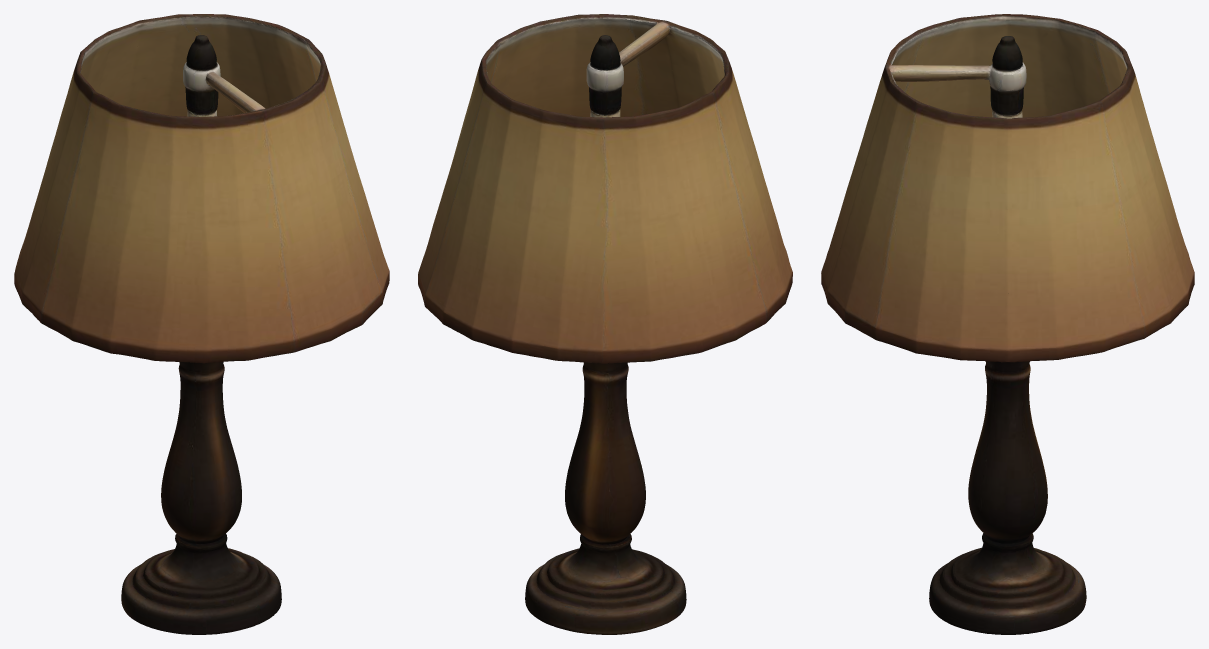
The model's file is desklamp.fbx.
3 renders of one model, left to right at view 1: azimuth 30°, elevation 25°; view 2: azimuth 150°, elevation 25°; view 3: azimuth 270°, elevation 25°, orthographic.
Visible parts, largest first — view 1: mesh; view 2: mesh; view 3: mesh.
Part boxes in pixels (x1,y1,x2,y2): mesh: (14,14,389,634); mesh: (418,14,792,634); mesh: (821,14,1194,634).
Size of the model in its own units: 59.6 by 100 by 60.02.
1 material, 1 textured.
